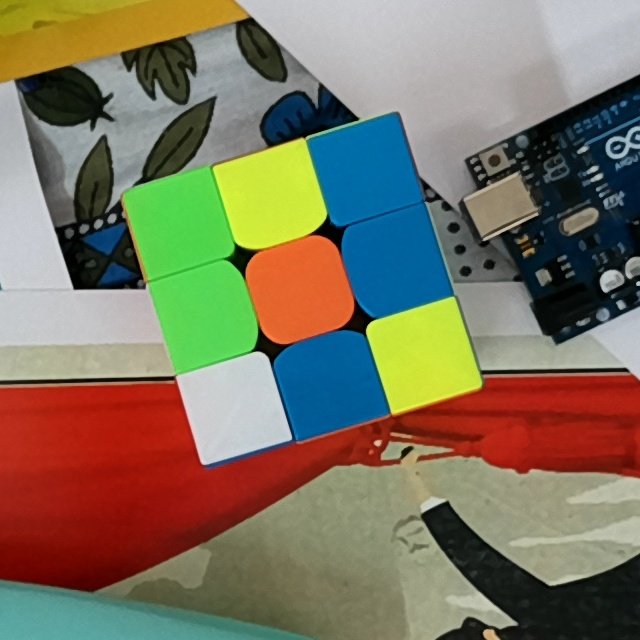tile: (289, 349, 370, 418), (358, 225, 433, 298), (170, 278, 241, 350), (331, 133, 404, 203), (234, 163, 308, 232), (265, 253, 335, 325), (200, 370, 272, 440), (388, 321, 459, 390), (147, 186, 214, 258)
